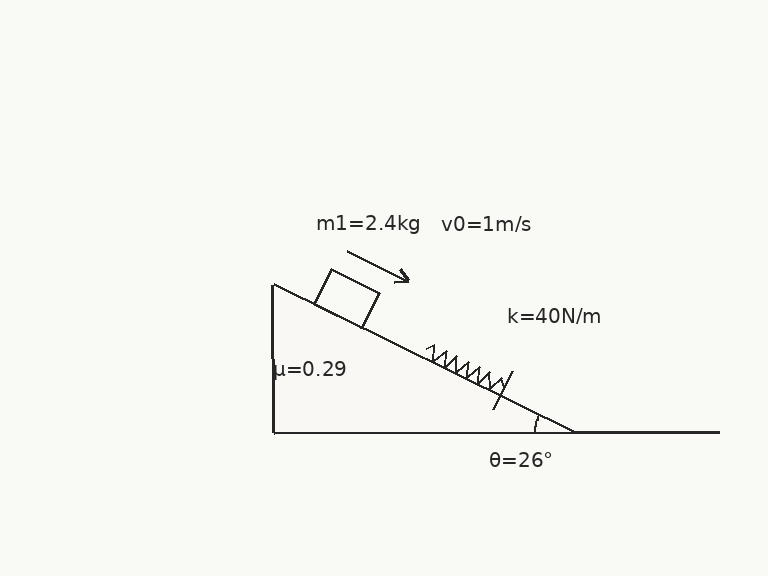block: (311, 267, 380, 330)
ramp: (272, 283, 577, 434)
spring: (423, 343, 506, 390)
